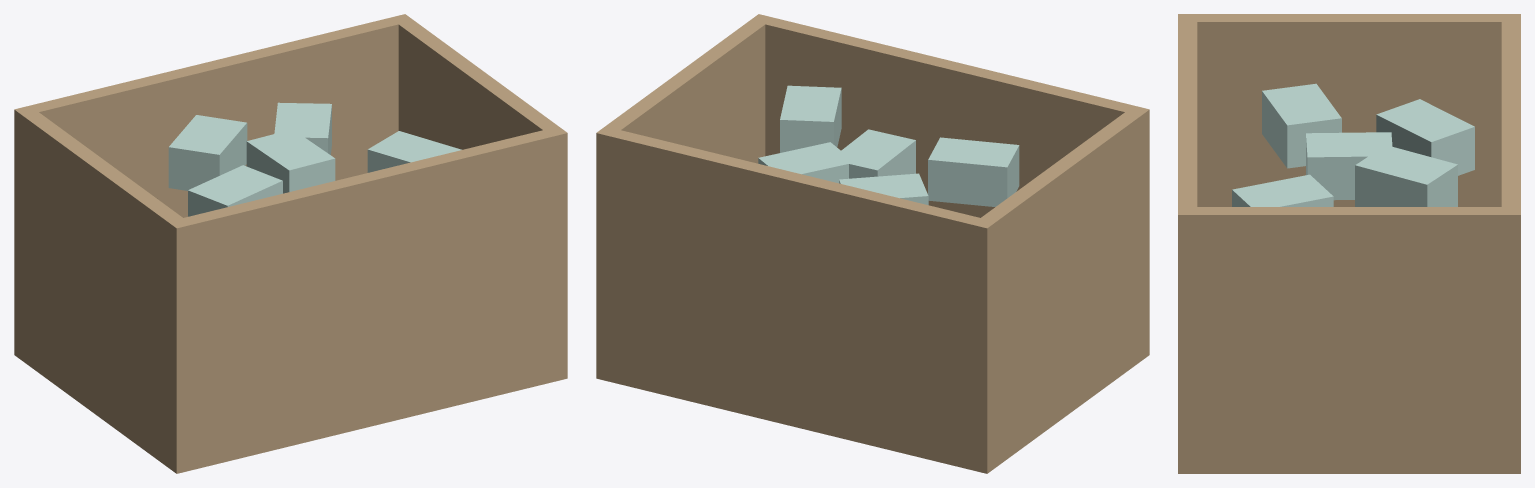
File: prop-glass-cullet-crate.fbx
The picture shows the model from 3 angles, left to right: view 1: azimuth 30°, elevation 25°; view 2: azimuth 150°, elevation 25°; view 3: azimuth 270°, elevation 25°; orthographic projection. The views are drawn at different scales.
Parts seen in each view (by area): view 1: prop-glass-cullet-crate; view 2: prop-glass-cullet-crate; view 3: prop-glass-cullet-crate.
Part boxes in pixels (bbox=[...]): prop-glass-cullet-crate: bbox=[14, 14, 567, 473]; prop-glass-cullet-crate: bbox=[596, 14, 1149, 473]; prop-glass-cullet-crate: bbox=[1178, 14, 1520, 473].
Bounding box in the file's own units: 50 × 30 × 36.
